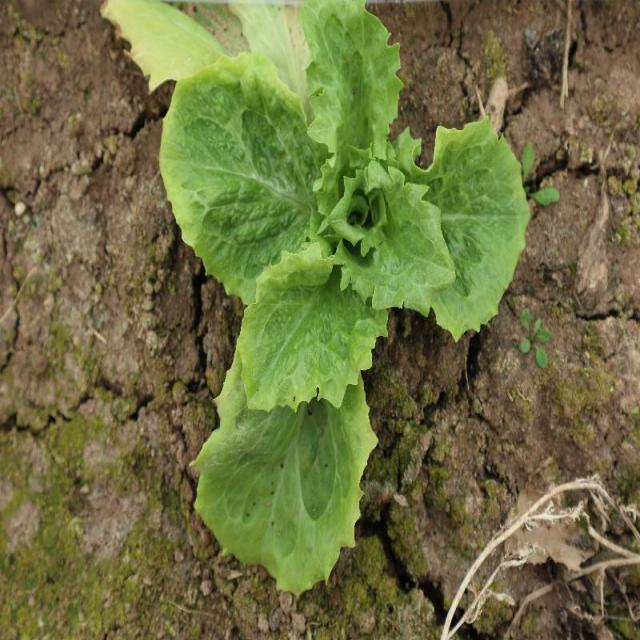crop: (156, 1, 532, 598)
